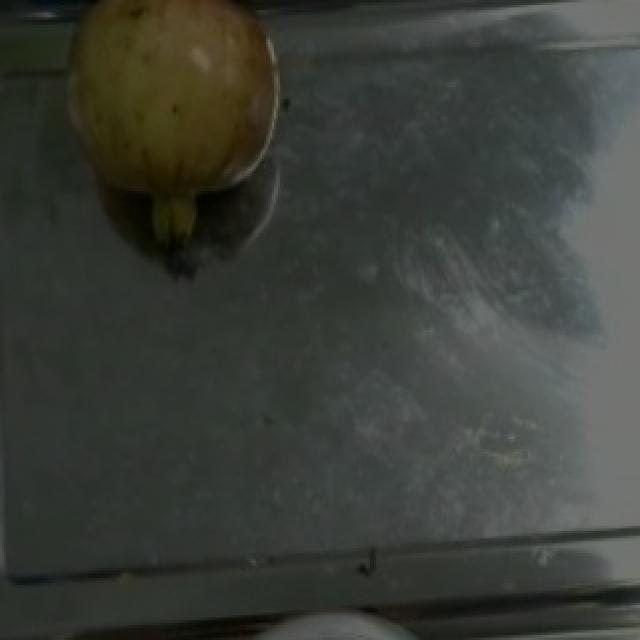fruit: (42, 0, 308, 233)
